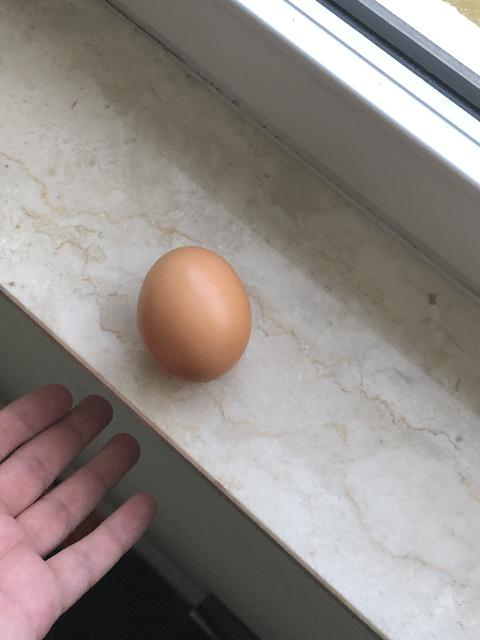Sano: (135, 244, 253, 384)
